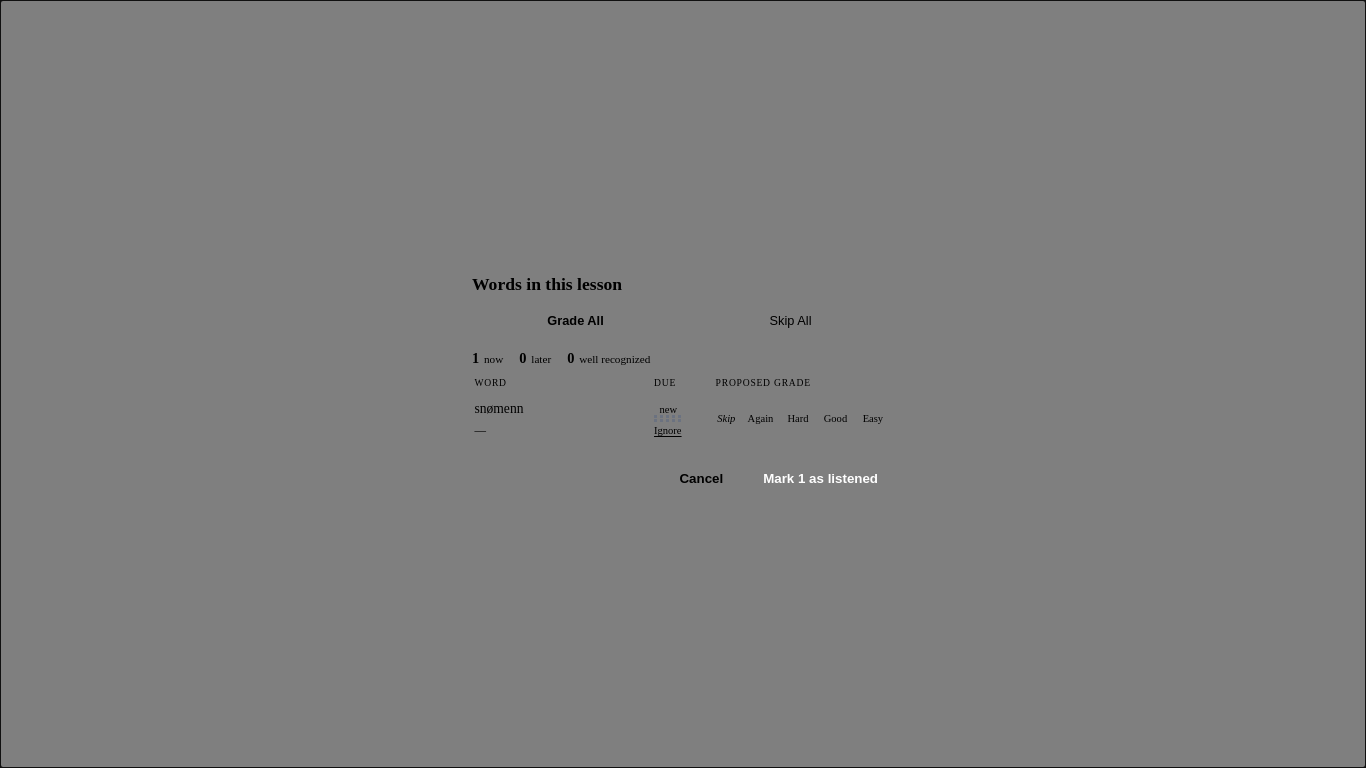
Test: ListenPreviewModal — the Ignore Undo bar › a failed ignore shows the error and NO undo bar
This screenshot has width=1366, height=768.
Expected: the text "snømenn" is shown, left=474, top=401, right=524, bottom=416
Click the button "Ignore" at (668, 431), box left=654, top=424, right=682, bottom=437
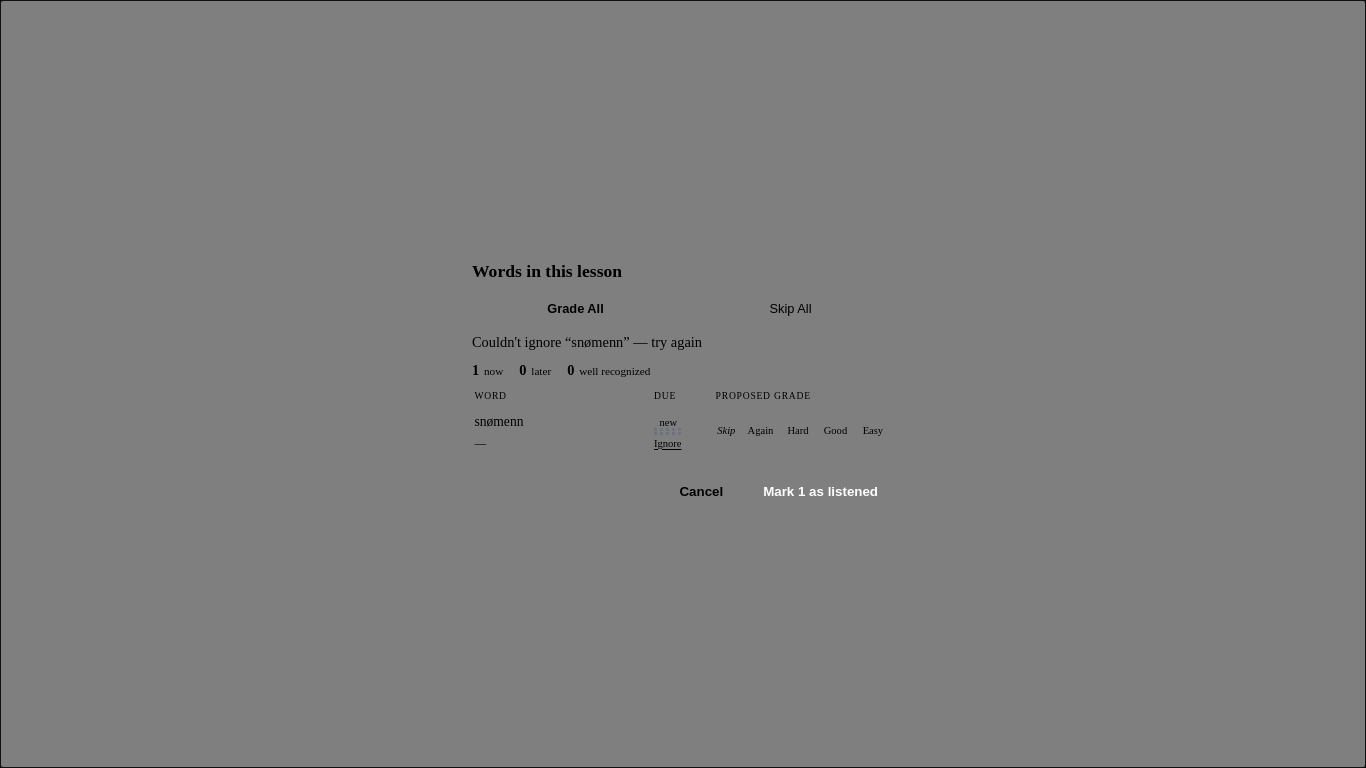
Result: the text "Couldn't ignore “snømenn” — try again" is shown at left=472, top=334, right=702, bottom=350
